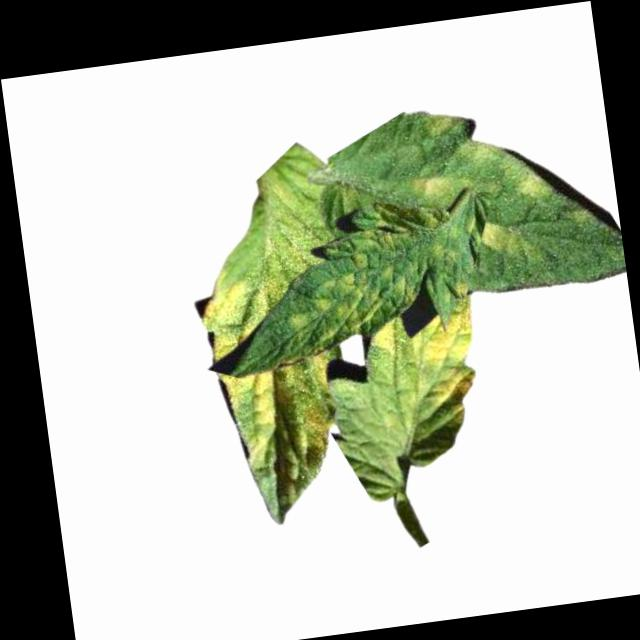Leaf_Mold: (276, 228, 430, 366), (368, 295, 493, 436), (220, 357, 346, 481), (195, 264, 282, 369), (478, 213, 530, 263), (412, 166, 468, 205), (513, 164, 559, 204), (423, 109, 467, 145)
